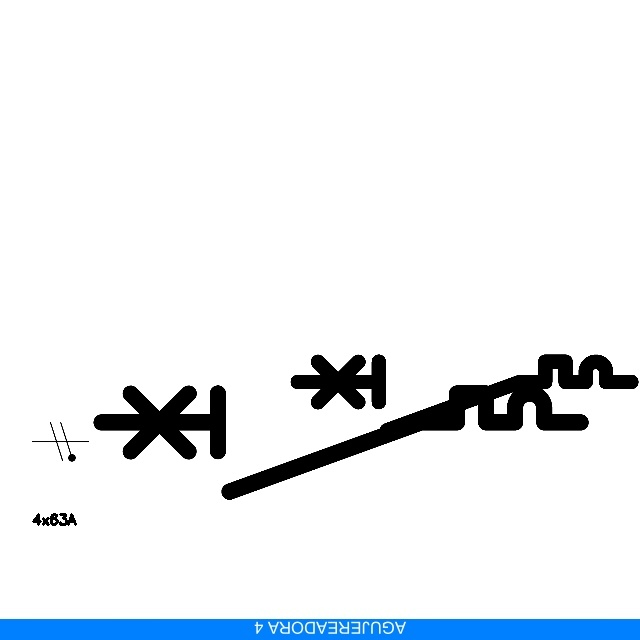interruptor_termomagnetico: (89, 381, 593, 504), (289, 353, 640, 439)
